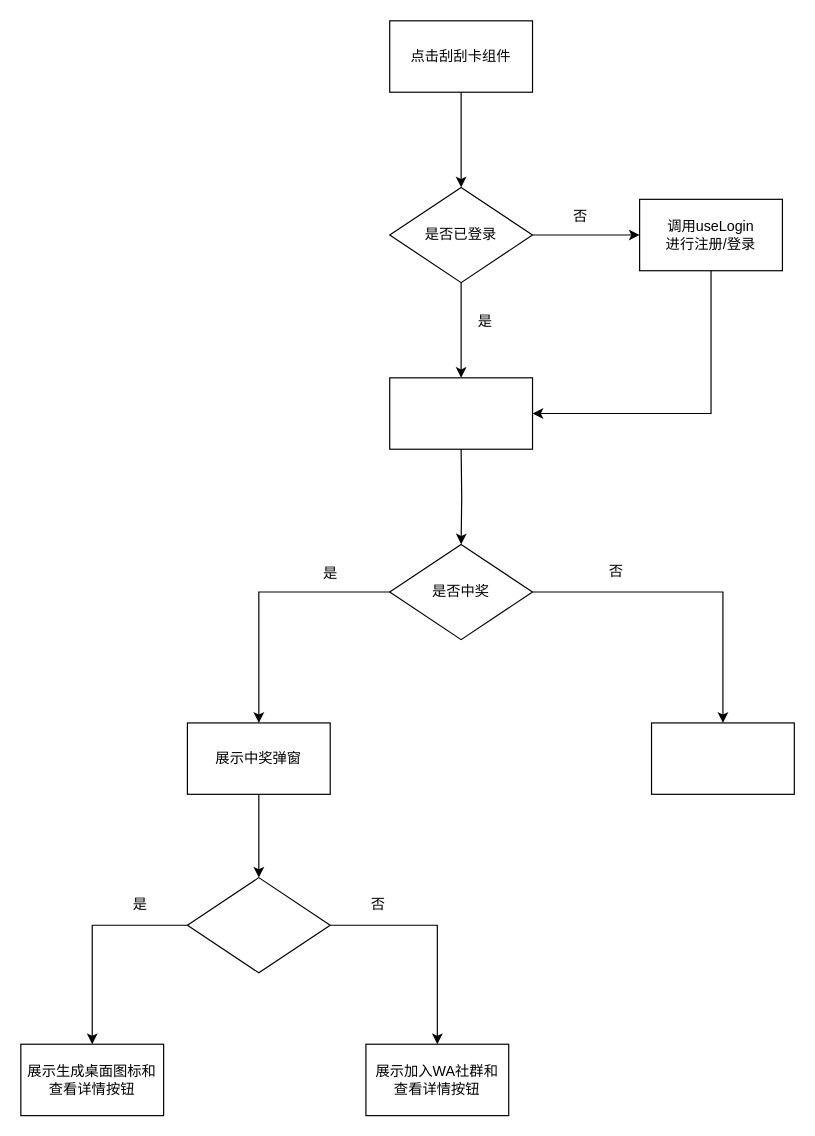
This 815x1136 diagram has some shape labels left out. The shapes that lost their labels are listed below. From the top down, each one's centre as x and y in pixels, then its label:
pixel 461 413: 开始抽奖 播放抽奖GIF动画 同时调用抽奖接口
pixel 722 758: 展示未中奖弹窗
pixel 258 924: 是否支持生成 桌面图标
